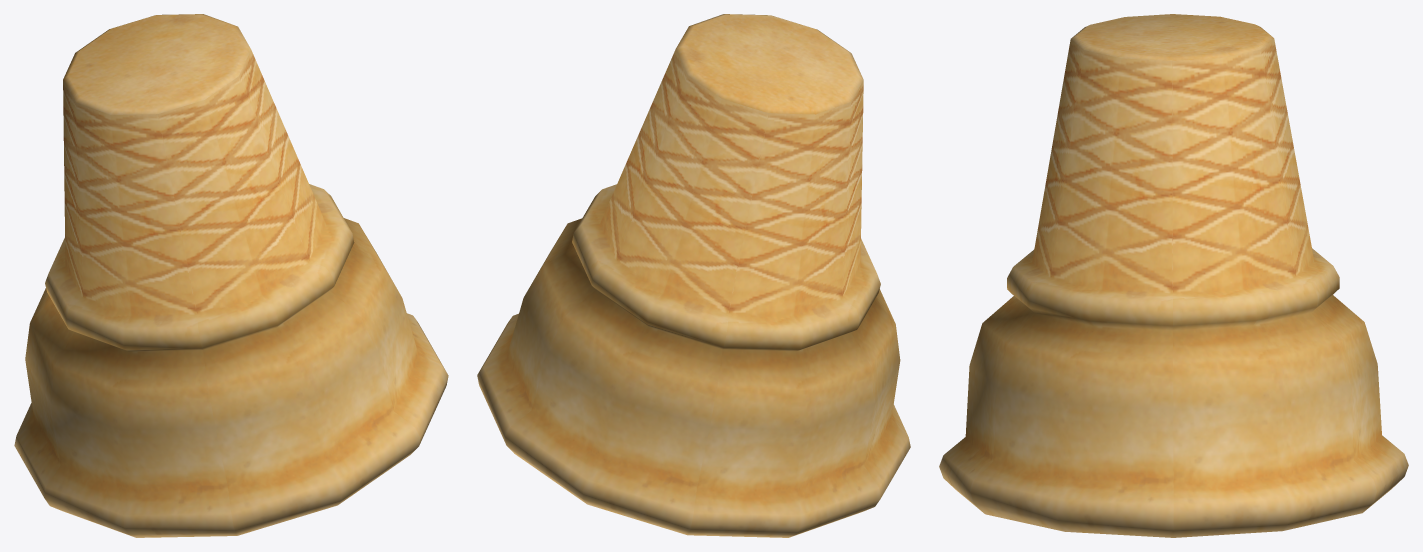
Rendered from iceCreamCone.glb.
The picture shows the model from 3 angles, left to right: view 1: azimuth 30°, elevation 25°; view 2: azimuth 150°, elevation 25°; view 3: azimuth 270°, elevation 25°; orthographic projection. The views are drawn at different scales.
Parts seen in each view (by area): view 1: iceCreamCone; view 2: iceCreamCone; view 3: iceCreamCone.
Boxes of the visible parts, bbox=[...] form: iceCreamCone: bbox=[14, 14, 448, 537]; iceCreamCone: bbox=[477, 14, 910, 537]; iceCreamCone: bbox=[939, 14, 1408, 537].
Bounding box in the file's own units: 1.12 × 1.28 × 1.15.
1 material, 1 textured.
